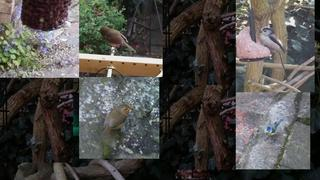blue tit: (264, 119, 284, 144)
long tailed tit: (259, 27, 288, 82)
robin: (101, 104, 133, 138), (98, 27, 136, 52)
